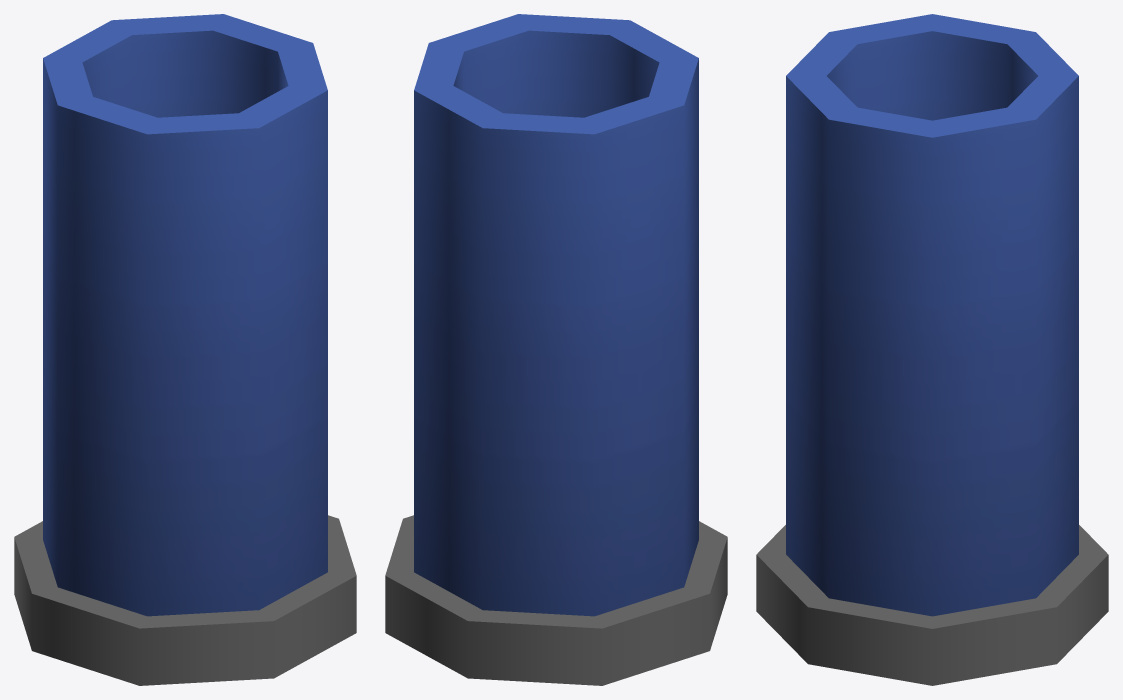
Rendered from Chimney_1_D_2.fbx.
3 views of the same model, side by side, from view 1: azimuth 30°, elevation 25°; view 2: azimuth 150°, elevation 25°; view 3: azimuth 270°, elevation 25° (orthographic).
Visible parts, largest first — view 1: Chimney_1_D_2; view 2: Chimney_1_D_2; view 3: Chimney_1_D_2.
Part boxes in pixels (x1,y1,x2,y2): Chimney_1_D_2: (14,14,356,685); Chimney_1_D_2: (385,14,727,685); Chimney_1_D_2: (756,14,1108,685).
Size of the model in its own units: 61.78 by 104 by 61.78.
